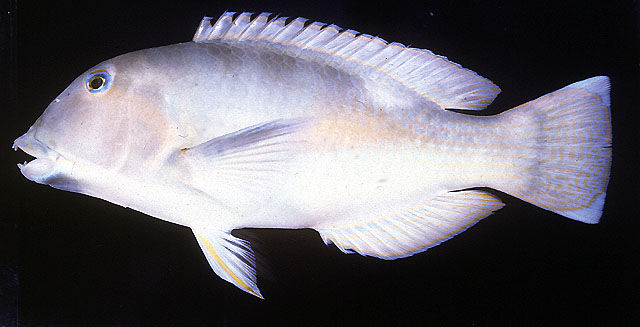fish: (13, 11, 613, 300)
